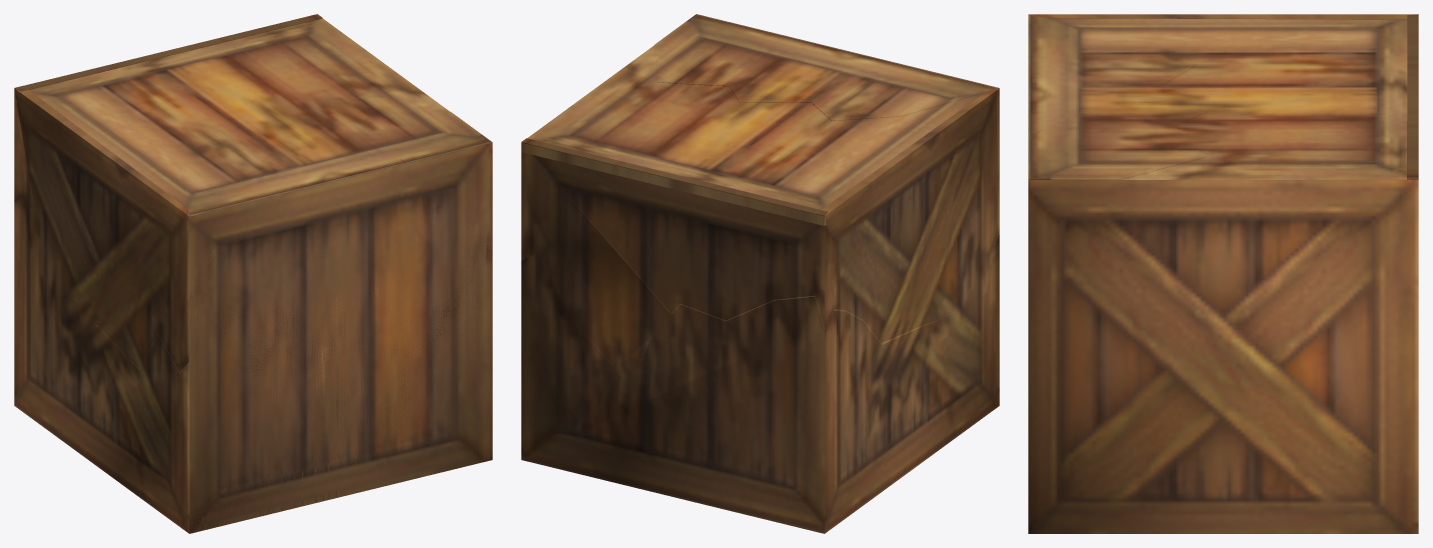
Rendered from a_SWGubox01a.glb.
3 renders of one model, left to right at view 1: azimuth 30°, elevation 25°; view 2: azimuth 150°, elevation 25°; view 3: azimuth 270°, elevation 25°, orthographic. The views are drawn at different scales.
Parts seen in each view (by area): view 1: a_SWGubox01a; view 2: a_SWGubox01a; view 3: a_SWGubox01a.
Part boxes in pixels (bbox=[...]): a_SWGubox01a: bbox=[14, 14, 492, 533]; a_SWGubox01a: bbox=[521, 14, 999, 533]; a_SWGubox01a: bbox=[1028, 14, 1418, 533].
Size of the model in its own units: 1 by 1 by 0.9999.
Materials: 4 (4 with a texture image).
